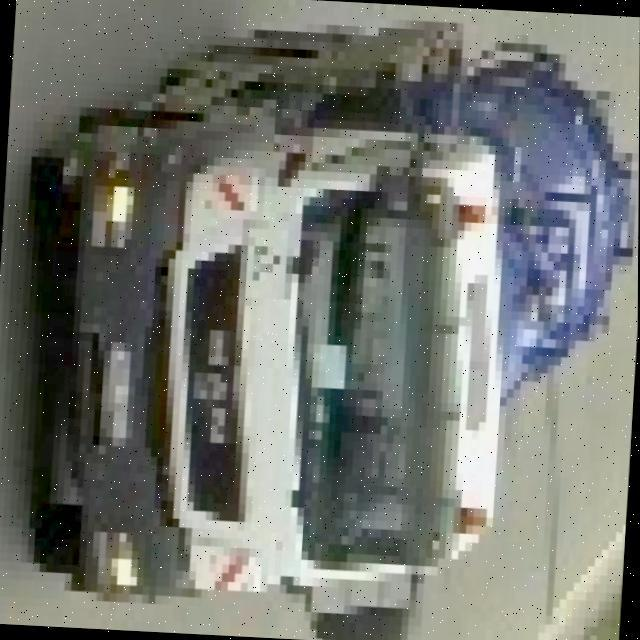truck: (22, 19, 640, 640)
